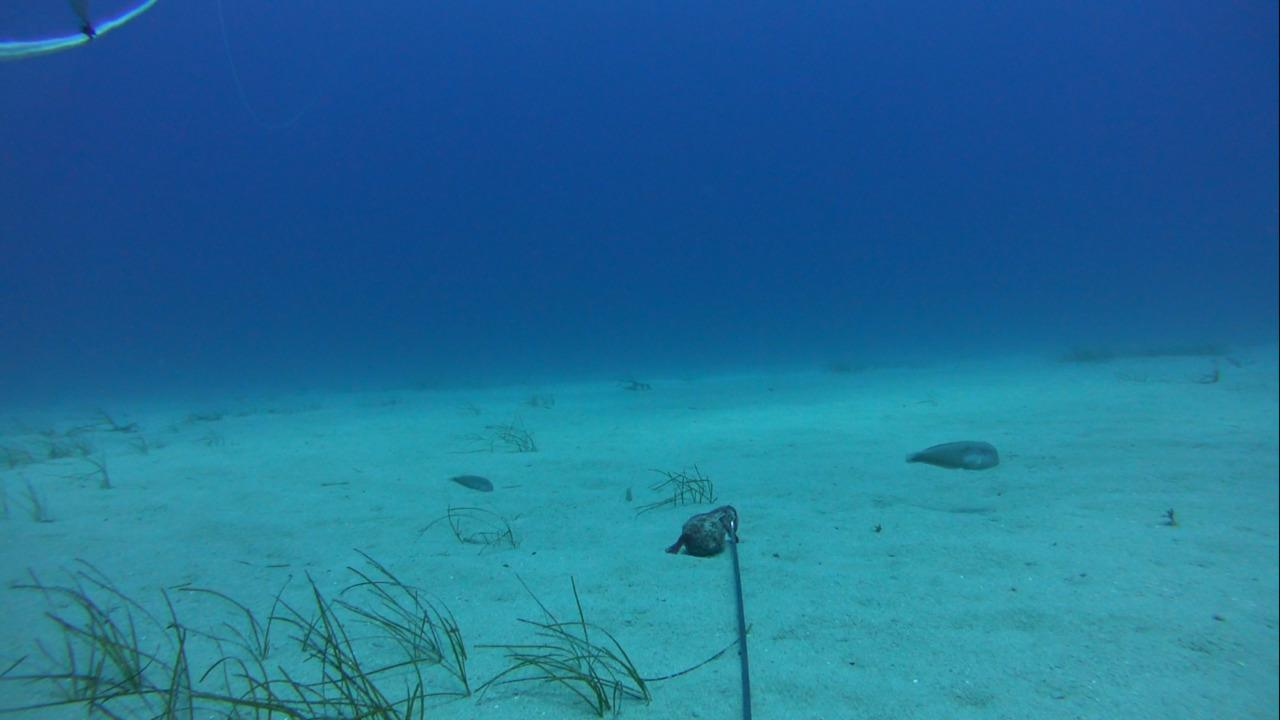raor: (900, 434, 1008, 477), (443, 467, 498, 493)
